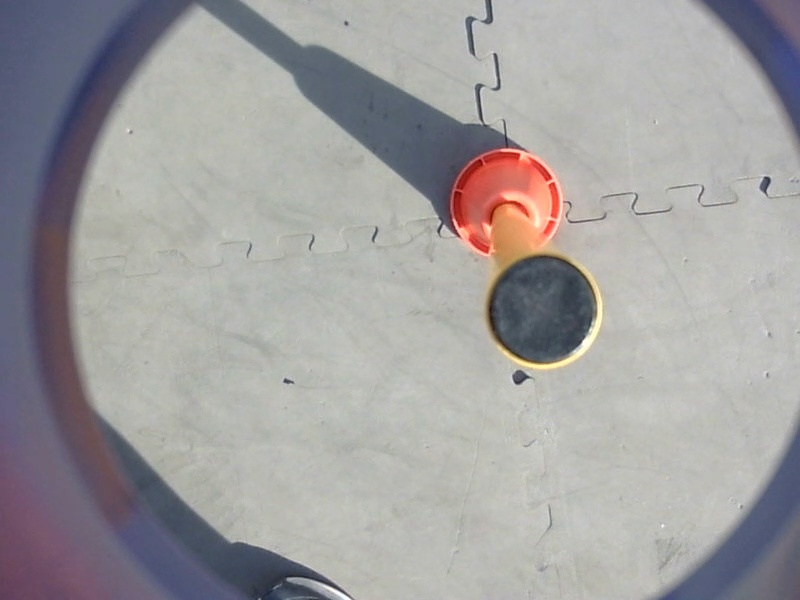tip: (480, 249, 606, 372)
